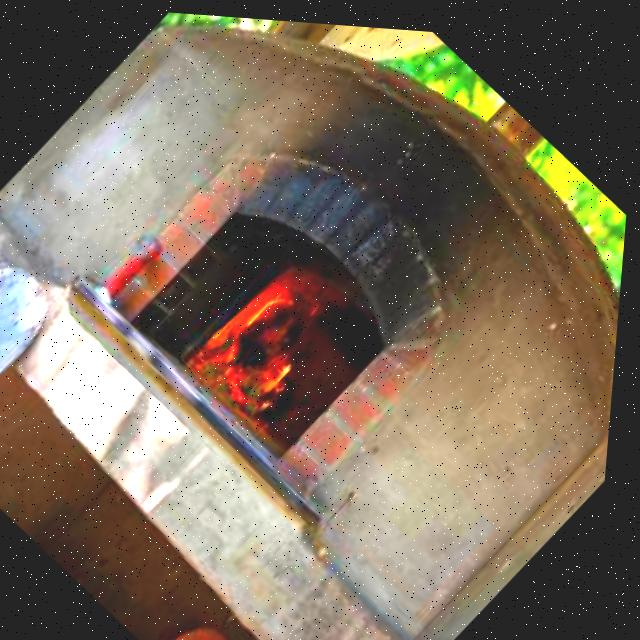Fire: (190, 237, 375, 427)
